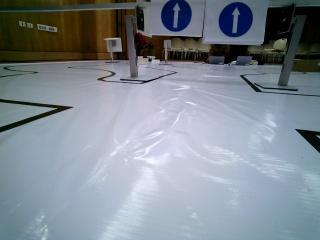straight: (206, 0, 263, 44), (146, 0, 202, 39)
